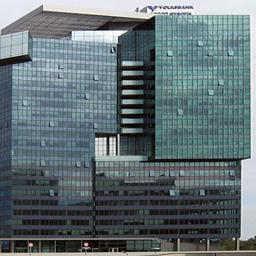building: (0, 0, 256, 251)
